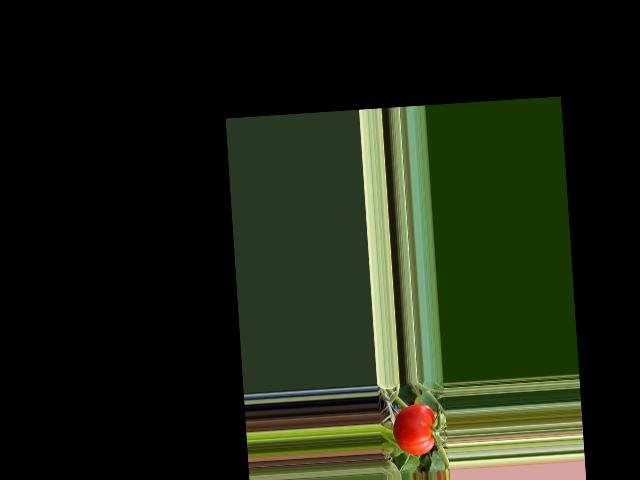tomato: (391, 402, 436, 456)
